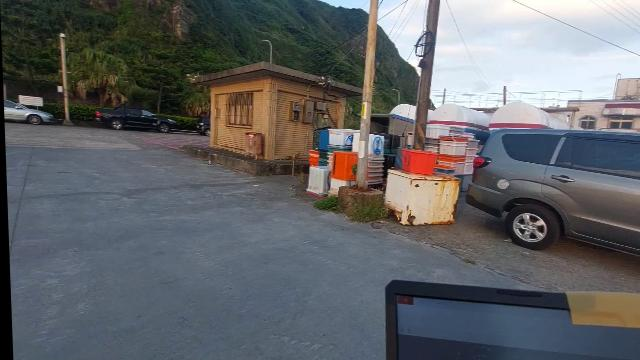pollute: (380, 169, 460, 226), (326, 153, 356, 198), (392, 148, 435, 177), (365, 134, 386, 188), (325, 131, 358, 164), (305, 164, 331, 198), (306, 150, 320, 165)
